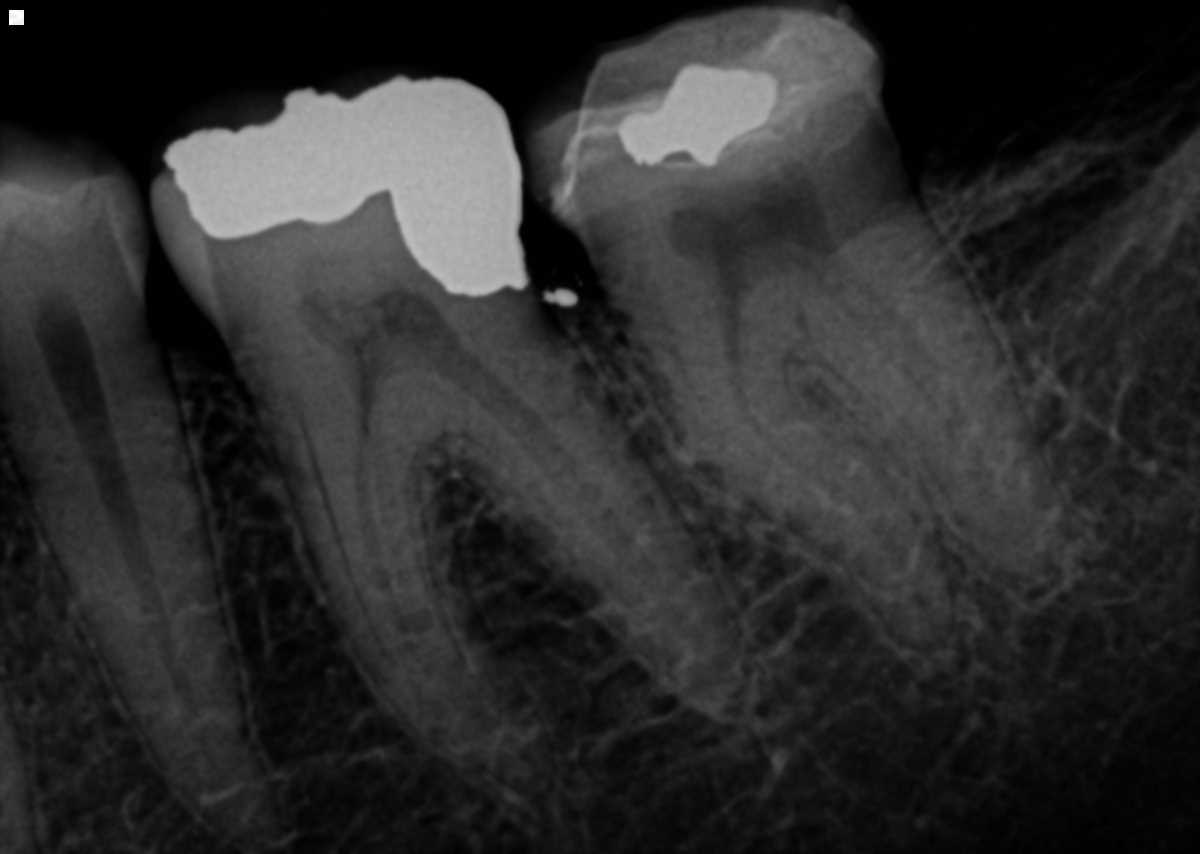Distal Canal: (433, 352, 715, 661), (816, 260, 995, 507)
Distal Root: (412, 308, 790, 738), (788, 207, 1088, 605)
Main Canal: (49, 357, 219, 779)
Main Root: (0, 322, 296, 854)
Mesial Canal: (718, 311, 939, 639), (349, 359, 447, 683)
Mesial Root: (265, 365, 560, 786), (638, 289, 963, 665)
